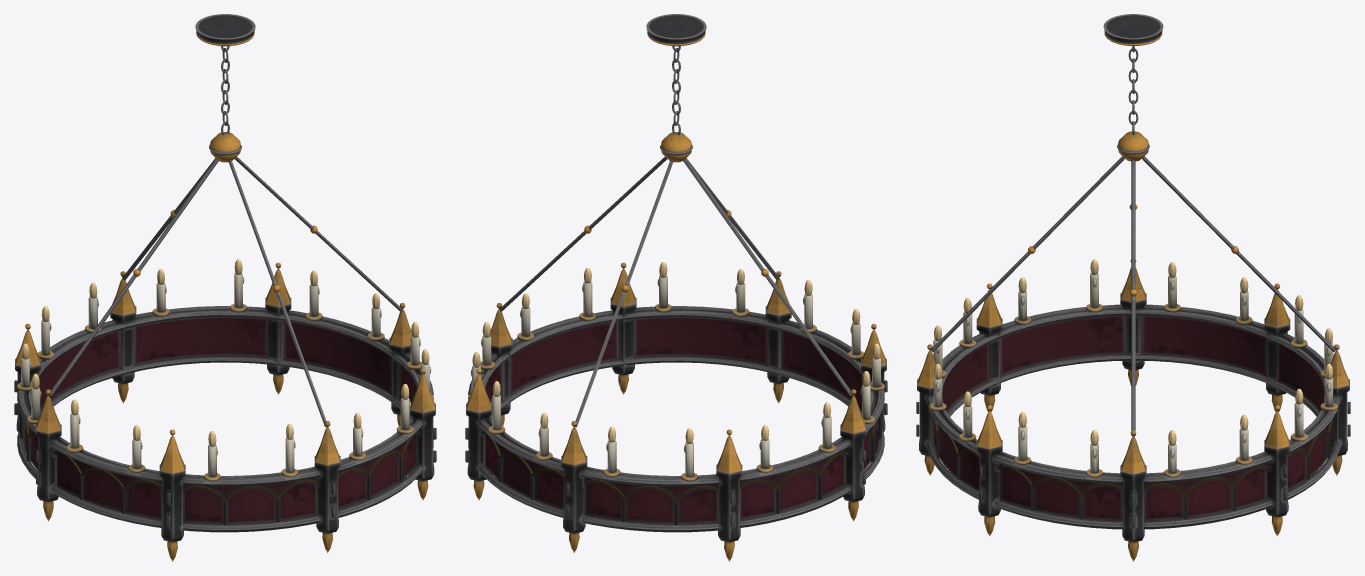
The model's file is ChandelierCorona.fbx.
3 renders of one model, left to right at view 1: azimuth 30°, elevation 25°; view 2: azimuth 150°, elevation 25°; view 3: azimuth 270°, elevation 25°, orthographic.
Visible parts, largest first — view 1: ChandelierCorona_Main, ChandelierCorona_Glow; view 2: ChandelierCorona_Main, ChandelierCorona_Glow; view 3: ChandelierCorona_Main, ChandelierCorona_Glow.
Boxes of the visible parts, left/top/right/bottom form: ChandelierCorona_Main: left=14, top=14, right=436, bottom=561; ChandelierCorona_Glow: left=21, top=259, right=429, bottom=446; ChandelierCorona_Main: left=465, top=14, right=887, bottom=561; ChandelierCorona_Glow: left=472, top=262, right=880, bottom=443; ChandelierCorona_Main: left=916, top=14, right=1350, bottom=561; ChandelierCorona_Glow: left=934, top=259, right=1332, bottom=445.
Size of the model in its own units: 436 by 495 by 433.
